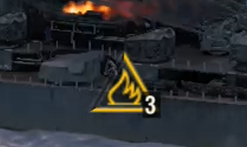3fire: (85, 76, 161, 120)
